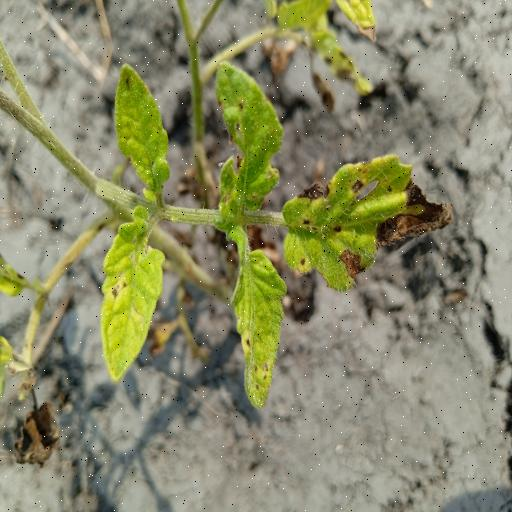Tomato_Brown_Spots: (281, 150, 458, 293), (94, 214, 170, 382), (225, 248, 290, 414)
